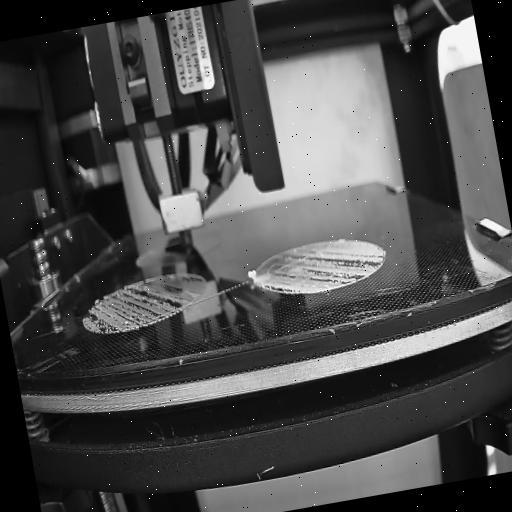under_extrusion: (78, 268, 210, 338), (257, 238, 388, 303)
